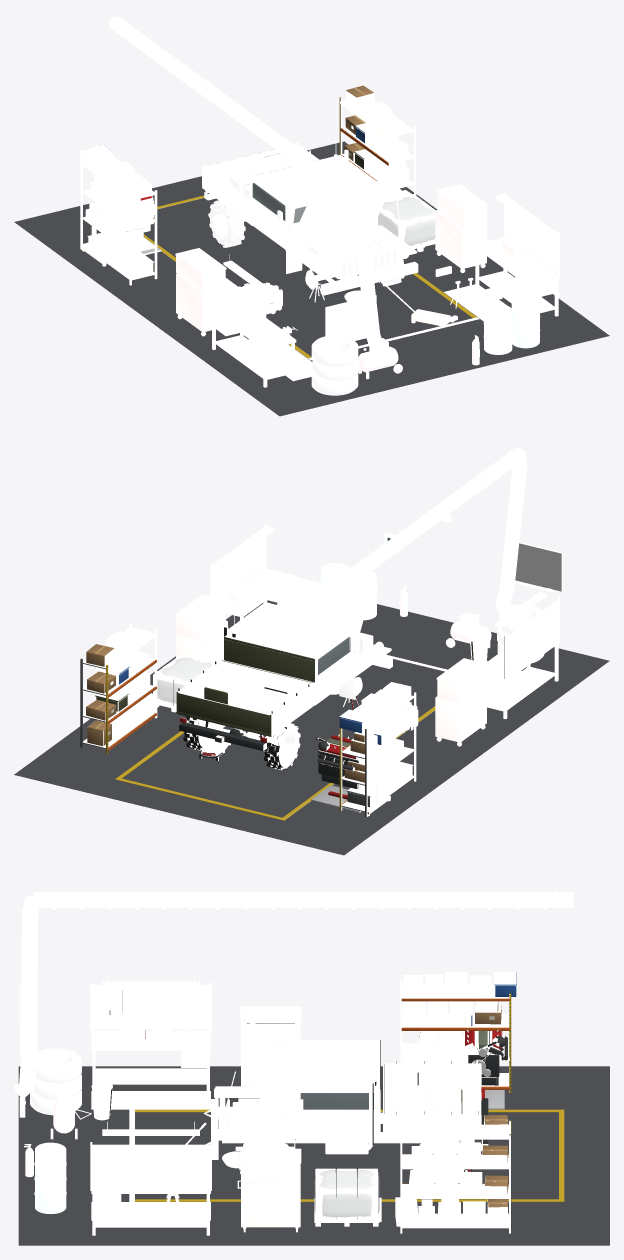
File: mex26-fitout.glb
The picture shows the model from 3 angles, top to bottom: view 1: azimuth 30°, elevation 25°; view 2: azimuth 150°, elevation 25°; view 3: azimuth 270°, elevation 25°; orthographic projection. The views are drawn at different scales.
Visible parts, largest first — view 1: MEX26_fitout; view 2: MEX26_fitout; view 3: MEX26_fitout.
Boxes of the visible parts, bbox=[...] form: MEX26_fitout: bbox=[14, 14, 609, 416]; MEX26_fitout: bbox=[14, 445, 609, 855]; MEX26_fitout: bbox=[14, 884, 609, 1245].
Bounding box in the file's own units: 7.8 × 4.65 × 10.96.
